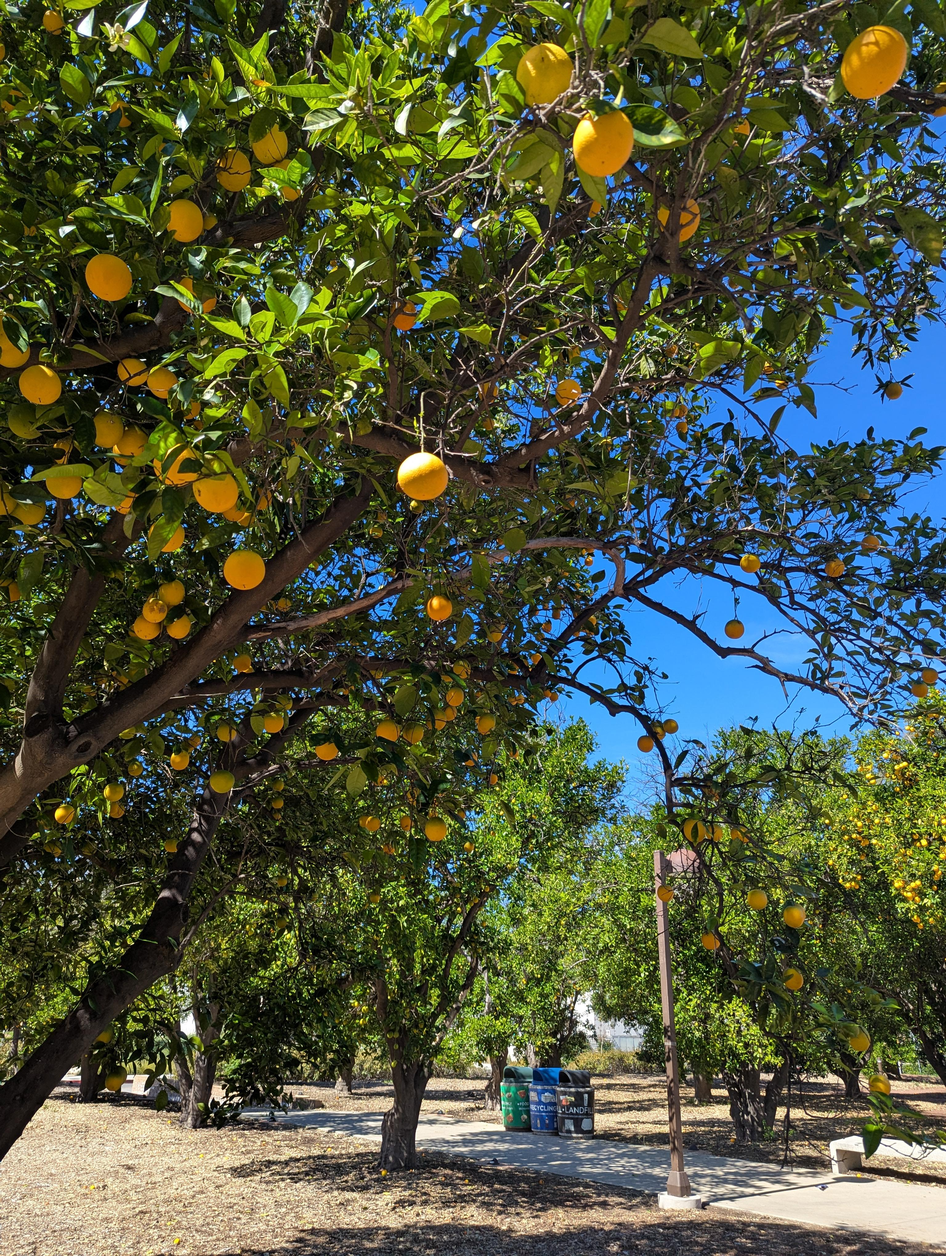orange: (841, 25, 907, 99), (573, 109, 633, 177), (516, 44, 574, 108), (398, 452, 448, 500), (85, 253, 132, 301), (153, 441, 201, 487), (657, 199, 700, 242), (193, 473, 238, 512), (19, 365, 62, 405), (223, 550, 265, 590), (0, 313, 30, 368), (215, 149, 251, 192), (167, 199, 203, 242), (178, 275, 217, 314), (252, 123, 288, 164), (46, 463, 82, 499), (8, 403, 42, 439), (93, 409, 123, 448), (149, 521, 184, 552), (116, 424, 149, 456), (147, 367, 178, 399), (9, 500, 46, 525), (118, 358, 148, 386), (390, 299, 416, 331), (158, 579, 185, 606), (134, 614, 161, 640), (926, 82, 946, 117), (426, 595, 452, 621), (556, 379, 581, 406), (53, 440, 81, 464), (166, 614, 191, 639), (114, 490, 140, 514), (143, 598, 167, 623), (848, 1025, 871, 1051), (0, 480, 17, 515), (42, 10, 65, 35), (210, 770, 235, 793), (110, 101, 132, 127), (1, 90, 25, 113), (376, 719, 400, 742), (684, 817, 706, 842), (425, 817, 447, 841), (198, 211, 218, 237), (869, 1074, 891, 1096), (112, 445, 135, 466), (222, 500, 245, 521), (403, 722, 424, 744), (426, 708, 447, 730), (783, 906, 804, 928), (734, 118, 750, 146), (92, 1024, 113, 1045), (263, 712, 284, 733), (478, 381, 498, 403), (783, 968, 803, 990), (35, 402, 60, 419), (747, 889, 767, 910), (315, 742, 338, 760), (170, 750, 190, 770), (103, 782, 124, 801), (740, 554, 761, 573), (55, 805, 75, 824), (217, 722, 237, 741), (730, 825, 750, 844), (724, 620, 744, 639), (825, 558, 845, 577), (559, 346, 580, 364), (105, 1071, 123, 1091), (446, 687, 464, 706), (453, 659, 471, 678), (702, 931, 720, 950), (257, 488, 272, 510), (233, 653, 251, 671), (479, 713, 496, 732), (861, 536, 880, 553), (42, 843, 62, 858), (706, 824, 723, 841), (657, 885, 674, 902), (184, 402, 201, 419), (638, 735, 654, 753), (276, 694, 292, 711), (886, 383, 902, 400), (921, 668, 938, 684), (911, 682, 928, 697), (283, 186, 301, 200), (273, 159, 293, 171), (663, 719, 679, 734), (238, 512, 255, 526), (80, 841, 97, 855), (128, 761, 143, 776), (561, 494, 575, 510), (589, 200, 602, 217), (116, 1065, 127, 1085), (118, 727, 136, 739), (366, 816, 380, 831), (794, 903, 805, 922), (444, 705, 457, 721), (616, 295, 629, 311), (410, 500, 424, 514), (164, 838, 178, 852), (400, 816, 414, 830), (104, 802, 119, 815), (110, 805, 125, 818), (478, 721, 493, 734), (653, 725, 666, 740), (278, 598, 291, 612), (370, 525, 383, 538), (665, 344, 678, 357), (465, 753, 478, 766), (407, 790, 418, 805), (599, 439, 612, 451), (114, 674, 128, 685), (272, 797, 284, 809), (128, 624, 139, 637), (763, 361, 774, 374), (487, 633, 502, 642), (483, 418, 494, 430), (189, 735, 201, 746), (676, 422, 688, 433), (775, 380, 788, 390), (678, 404, 688, 417), (238, 666, 254, 674), (369, 670, 383, 679), (273, 780, 284, 791), (276, 917, 287, 928), (531, 653, 542, 664), (383, 844, 395, 854), (728, 279, 740, 289), (119, 682, 132, 691), (277, 875, 287, 886), (370, 892, 380, 903), (359, 816, 369, 827), (464, 841, 474, 852), (542, 622, 552, 633), (0, 43, 6, 61), (428, 809, 438, 819), (373, 777, 384, 786), (668, 409, 679, 418), (588, 615, 597, 626), (272, 812, 281, 822), (552, 610, 561, 620), (535, 633, 545, 642), (508, 695, 517, 705), (344, 686, 354, 695), (710, 791, 719, 801), (458, 808, 466, 819), (310, 891, 318, 901), (490, 774, 498, 784), (158, 143, 167, 151), (95, 678, 107, 684), (441, 676, 453, 682), (585, 557, 593, 566), (516, 694, 524, 703), (550, 692, 558, 701), (269, 600, 276, 610), (312, 560, 319, 570), (544, 690, 552, 697), (475, 690, 482, 698), (510, 750, 518, 757), (584, 548, 595, 553), (519, 334, 528, 340), (542, 604, 549, 611), (659, 387, 667, 393), (522, 659, 528, 667), (260, 605, 267, 611), (693, 431, 700, 437), (498, 538, 504, 545), (573, 631, 580, 637), (872, 804, 879, 810), (939, 853, 946, 859), (475, 716, 480, 724), (933, 874, 939, 880), (915, 880, 921, 886), (910, 882, 916, 888), (906, 886, 912, 892), (893, 858, 899, 864), (387, 1031, 393, 1037), (496, 558, 504, 562), (509, 670, 517, 674), (633, 387, 639, 392), (573, 612, 578, 618), (581, 549, 586, 555), (929, 918, 934, 924), (883, 753, 888, 759), (902, 762, 908, 767), (894, 765, 900, 770), (870, 779, 876, 784), (894, 787, 900, 792), (941, 819, 946, 825), (857, 821, 862, 827), (932, 885, 937, 891), (935, 870, 941, 875), (933, 865, 938, 871), (922, 841, 928, 846), (913, 834, 919, 839), (907, 850, 913, 855), (900, 848, 905, 854), (907, 892, 912, 898), (910, 890, 915, 896), (907, 896, 913, 901), (914, 897, 920, 902), (899, 881, 904, 887), (894, 883, 900, 888), (843, 835, 849, 840), (864, 838, 869, 844), (846, 882, 851, 888), (394, 1044, 399, 1050), (535, 608, 539, 615), (562, 572, 569, 576), (575, 583, 580, 588), (918, 924, 923, 929), (912, 917, 917, 922), (905, 726, 910, 731), (914, 733, 919, 738), (934, 752, 939, 757), (899, 764, 904, 769), (858, 766, 863, 771), (894, 770, 899, 775), (866, 774, 871, 779), (885, 773, 890, 778), (874, 819, 879, 824), (854, 818, 859, 823), (857, 827, 862, 832), (825, 819, 830, 824), (852, 834, 857, 839), (828, 860, 833, 865), (383, 779, 387, 785), (637, 391, 641, 397), (588, 632, 594, 636), (897, 775, 903, 779), (870, 824, 874, 830), (904, 891, 908, 897), (842, 825, 846, 831), (384, 716, 389, 720), (914, 915, 918, 920), (910, 727, 914, 732), (895, 731, 900, 735), (927, 740, 932, 744), (843, 794, 847, 799), (892, 774, 896, 779), (906, 772, 911, 776), (906, 802, 911, 806), (885, 817, 889, 822), (900, 880, 905, 884), (857, 836, 862, 840), (872, 840, 877, 844), (861, 841, 865, 846), (854, 884, 859, 888), (851, 882, 856, 886), (857, 875, 861, 880), (850, 816, 854, 821), (901, 890, 905, 895), (392, 1062, 396, 1067), (928, 714, 934, 717), (943, 836, 946, 842), (926, 718, 930, 722), (893, 755, 897, 759), (905, 781, 909, 785), (914, 884, 918, 888), (860, 855, 864, 859), (829, 847, 833, 851), (774, 841, 778, 845), (934, 714, 939, 717), (529, 668, 532, 672), (917, 918, 920, 922), (915, 778, 919, 781), (867, 819, 871, 822), (845, 885, 849, 888), (887, 915, 890, 919), (838, 930, 842, 933), (834, 929, 837, 933), (810, 920, 813, 924), (936, 690, 939, 693), (930, 694, 933, 697), (868, 801, 871, 804), (816, 910, 819, 913), (780, 900, 783, 903), (871, 776, 874, 778), (845, 872, 848, 874), (945, 848, 946, 853), (945, 804, 946, 808)
